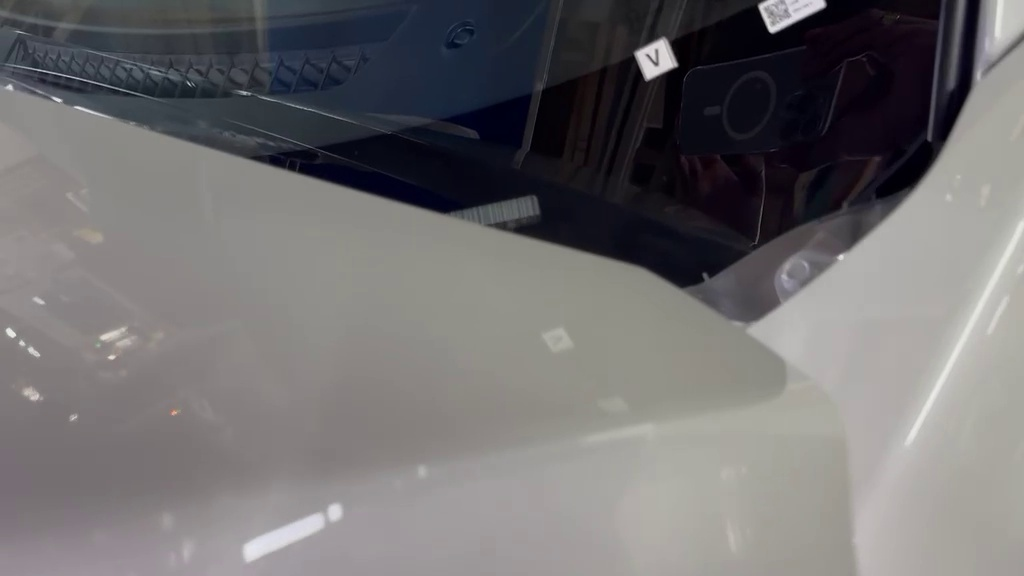hinge: (405, 183, 574, 249)
